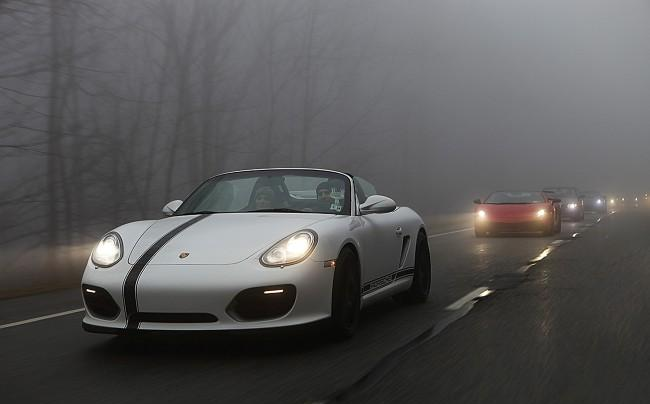car: (78, 165, 433, 345), (473, 188, 562, 236), (534, 186, 587, 224), (577, 190, 608, 215), (591, 190, 622, 209)
